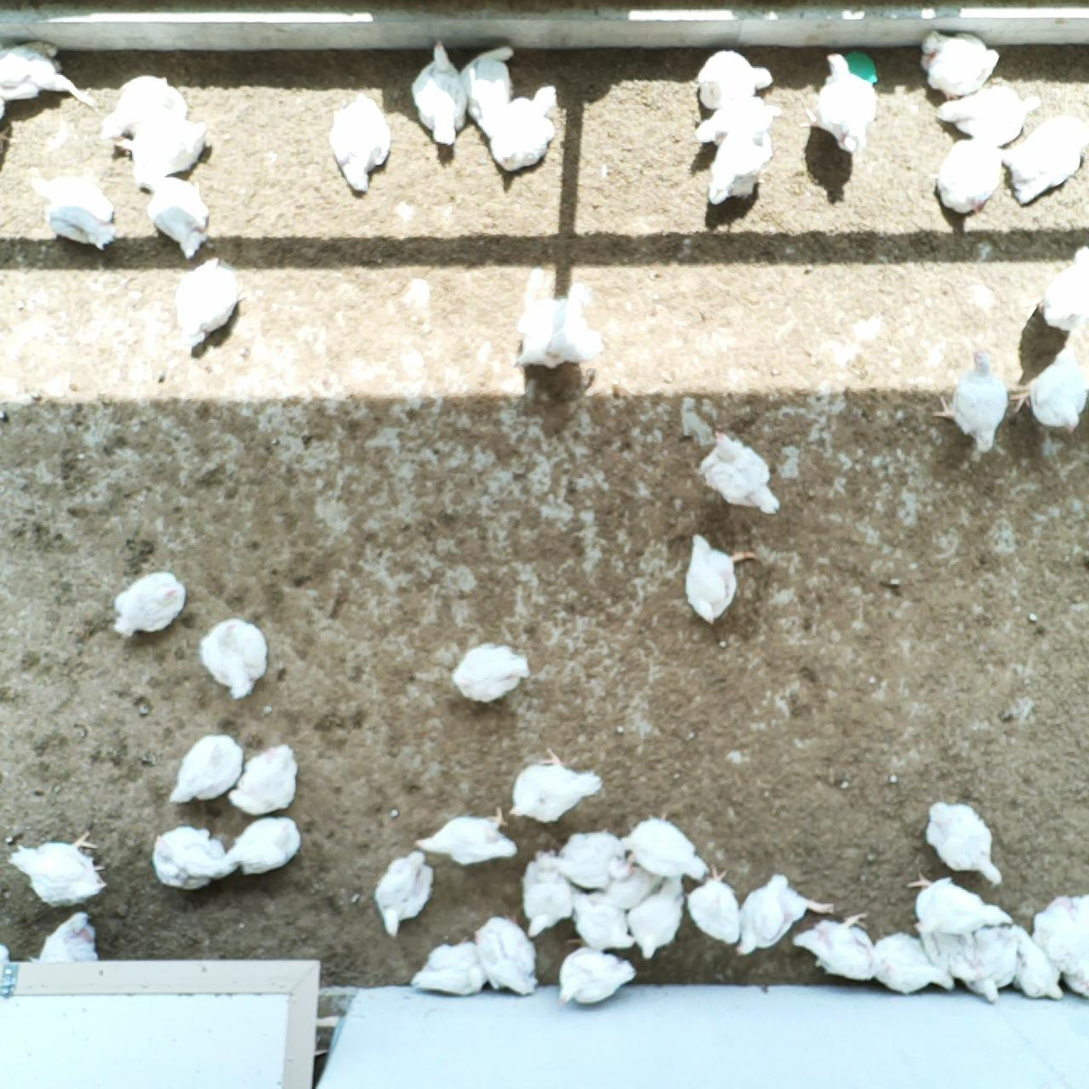chicken: (1010, 311, 1089, 439), (928, 345, 1013, 459), (728, 871, 838, 954), (510, 282, 607, 376), (165, 250, 250, 354), (999, 112, 1089, 209), (5, 828, 116, 906), (799, 53, 881, 154), (26, 170, 123, 255), (506, 740, 604, 824), (483, 81, 565, 181), (922, 796, 1008, 890), (0, 35, 100, 115), (683, 529, 761, 629), (411, 802, 523, 871), (790, 908, 889, 986), (329, 88, 397, 199), (97, 70, 191, 150), (700, 430, 784, 516), (121, 108, 210, 189), (933, 84, 1047, 147), (410, 37, 468, 157), (621, 807, 713, 882), (905, 869, 1015, 931), (164, 727, 247, 808), (369, 846, 439, 941), (450, 637, 541, 709), (141, 174, 216, 261), (869, 930, 959, 1001), (934, 132, 1008, 217), (198, 616, 272, 701), (457, 43, 522, 139), (918, 26, 1002, 100), (111, 567, 190, 644), (553, 944, 638, 1015), (705, 127, 779, 208), (681, 859, 746, 951), (221, 812, 303, 884), (225, 741, 302, 817), (147, 823, 230, 893), (402, 932, 489, 997), (535, 827, 627, 886), (693, 93, 791, 148), (626, 877, 690, 961), (479, 915, 543, 998), (518, 848, 572, 945), (1001, 922, 1066, 1002), (1037, 238, 1089, 335), (961, 924, 1023, 1005), (692, 47, 772, 106), (572, 884, 638, 954), (911, 920, 983, 984), (1031, 894, 1089, 972), (28, 909, 105, 966), (584, 862, 661, 912)
